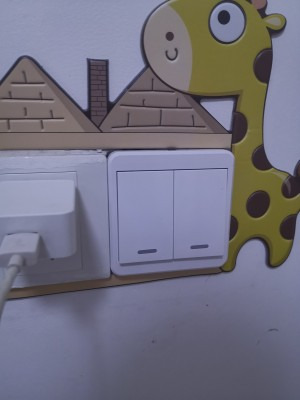switch: (175, 177, 228, 261), (122, 171, 166, 264)
